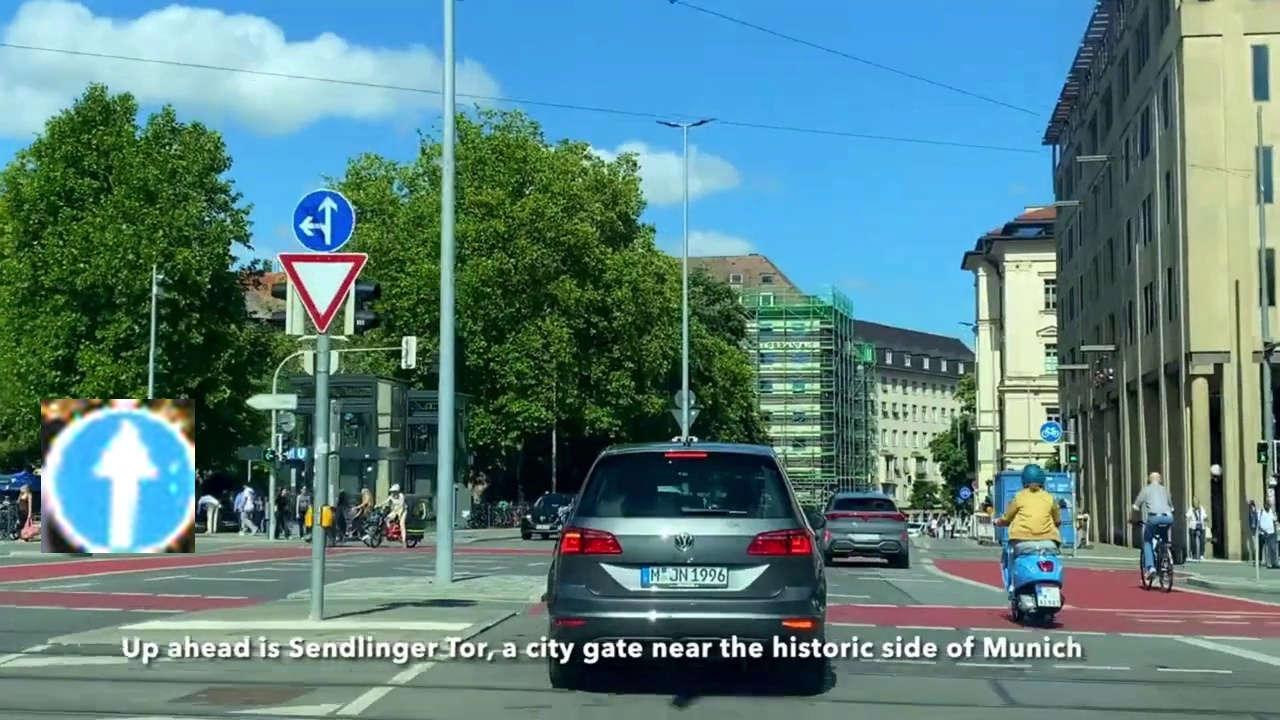Ahead only: (41, 399, 195, 553)
